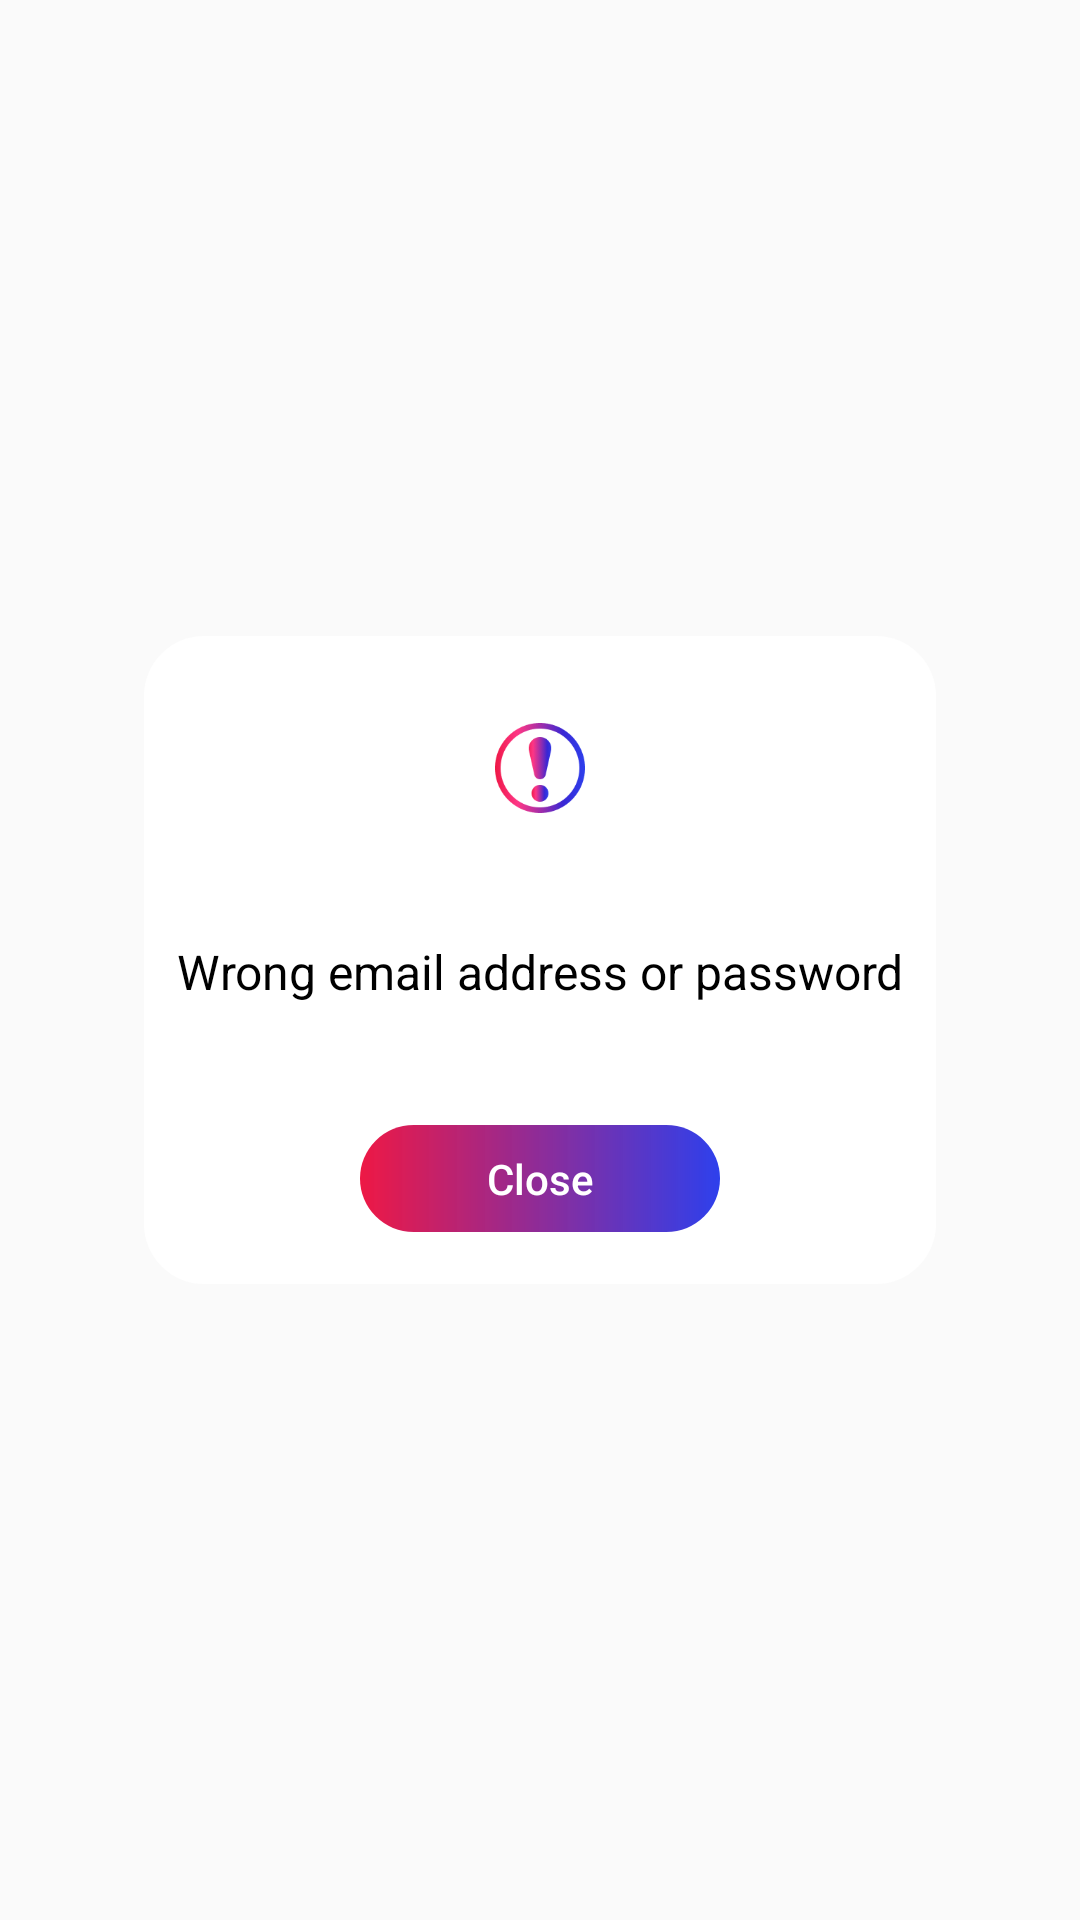

Point at icon controls on the screen. Image size 1080w x 1920h, points as (x=x, y=y).
warning: (x=540, y=768)
